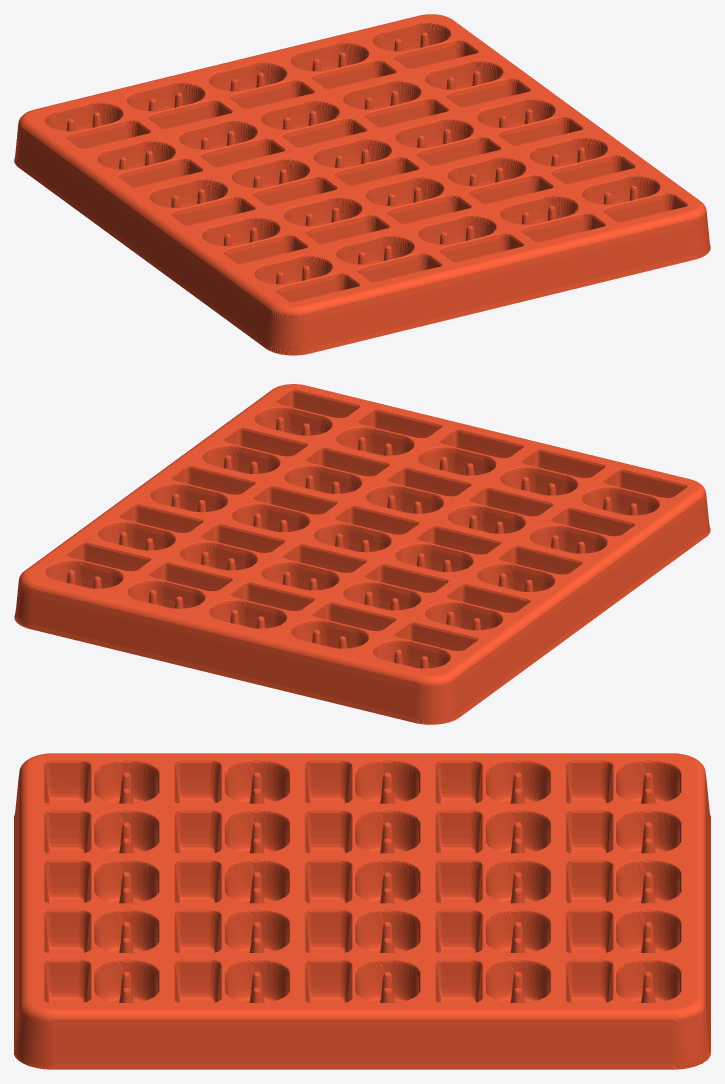
Rendered from mold.glb.
3 renders of one model, top to bottom at view 1: azimuth 30°, elevation 25°; view 2: azimuth 150°, elevation 25°; view 3: azimuth 270°, elevation 25°, orthographic. The views are drawn at different scales.
Parts seen in each view (by area): view 1: geometry_0; view 2: geometry_0; view 3: geometry_0.
Part boxes in pixels (x1=…): geometry_0: x1=14, y1=14, x2=710, y2=355; geometry_0: x1=14, y1=384, x2=710, y2=724; geometry_0: x1=14, y1=753, x2=710, y2=1069.
Size of the model in its own units: 0.1441 by 0.0136 by 0.1584.
